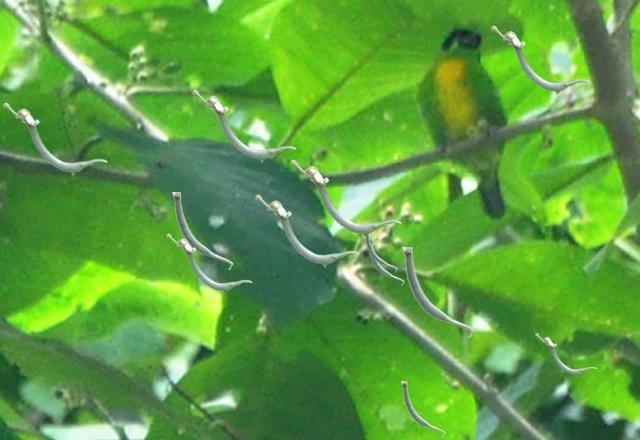french_bean: (290, 159, 400, 236), (255, 194, 358, 266), (3, 102, 106, 174), (192, 89, 295, 161), (491, 25, 588, 93), (402, 247, 473, 337), (166, 233, 251, 292), (172, 192, 232, 269), (535, 333, 595, 375), (401, 381, 444, 436), (369, 238, 403, 284), (365, 235, 396, 271)
